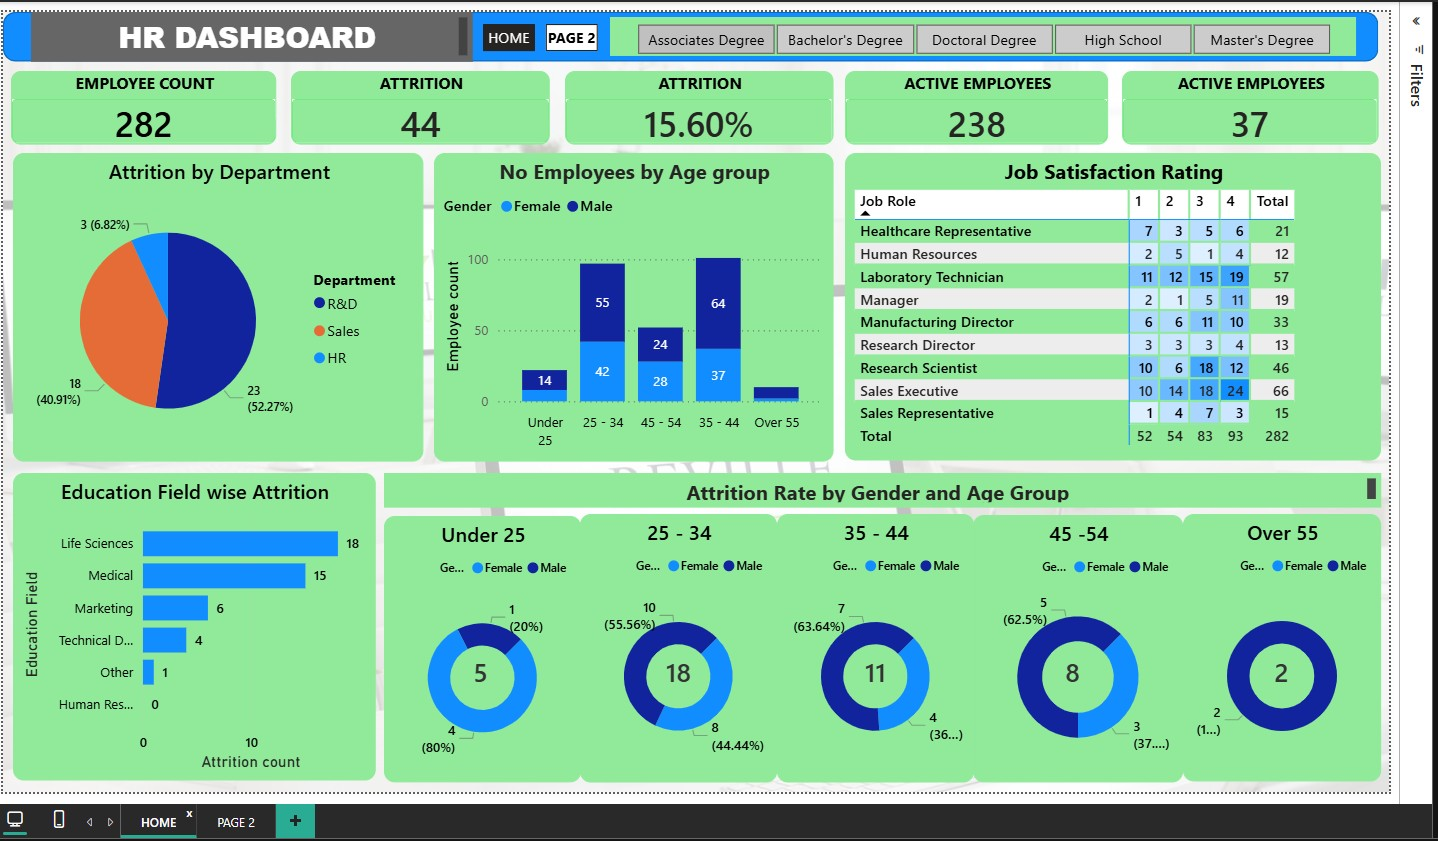

The page's visual inventory and layout, read from the dashboard file:
{"tool":"powerbi","page":{"name":"HOME","canvas":[1280,720],"ordinal":0},"visuals":[{"type":"cardVisual","title":"EMPLOYEE COUNT ","fields":{"Data":["HR data.Employee Count"]},"box":[7.1,54.3,245.4,68],"z":0},{"type":"cardVisual","title":"ATTRITION","fields":{"Data":["HR data.Attrition count"]},"box":[266.3,54.3,239,68],"z":1000},{"type":"cardVisual","title":"ATTRITION","fields":{"Data":["HR data.Attrition Rate"]},"box":[519.4,54.2,247.5,68],"z":2000},{"type":"cardVisual","title":"ACTIVE EMPLOYEES ","fields":{"Data":["HR data.Active Employees"]},"box":[777.6,54.2,243.3,68],"z":3000},{"type":"cardVisual","title":"ACTIVE EMPLOYEES ","fields":{"Data":["HR data.Age"]},"box":[1033.2,54.3,236.9,68],"z":4000},{"type":"pieChart","title":"Attrition by Department","fields":{"Category":["HR data.Department"],"Y":["HR data.Attrition count"]},"box":[9.6,130.4,379.2,284.7],"z":5000},{"type":"columnChart","title":"No Employees by Age group","fields":{"Category":["HR data.CF_age band"],"Y":["HR data.Employee Count"],"Series":["HR data.Gender"]},"box":[398.3,130.4,368.6,284.7],"z":6000},{"type":"pivotTable","title":"Job Satisfaction Rating ","fields":{"Rows":["HR data.Job Role"],"Columns":["HR data.Job Satisfaction"],"Values":["HR data.Employee Count"]},"box":[777.6,130.7,495,283.6],"z":7000},{"type":"barChart","title":"Education Field wise Attrition","fields":{"Category":["HR data.Education Field"],"Y":["HR data.Attrition count"]},"box":[9.6,425.7,334.6,283.6],"z":7001},{"type":"donutChart","title":"Under 25","fields":{"Category":["HR data.Gender"],"Y":["HR data.Attrition count"],"Series":["HR data.CF_age band"]},"box":[351.6,465.3,181.6,246.4],"z":7004},{"type":"textbox","box":[351.6,426,921,31.9],"z":7005},{"type":"donutChart","title":" 25 - 34","fields":{"Category":["HR data.Gender"],"Y":["HR data.Attrition count"],"Series":["HR data.CF_age band"]},"box":[533.2,463.9,181.6,247.5],"z":7006},{"type":"donutChart","title":"45 -54","fields":{"Category":["HR data.Gender"],"Y":["HR data.Attrition count"],"Series":["HR data.CF_age band"]},"box":[896.1,464.1,193.8,246.9],"z":7007},{"type":"donutChart","title":"35 - 44","fields":{"Category":["HR data.Gender"],"Y":["HR data.Attrition count"],"Series":["HR data.CF_age band"]},"box":[714.9,463.9,181.6,247.5],"z":7008},{"type":"donutChart","title":"Over 55","fields":{"Category":["HR data.Gender"],"Y":["HR data.Attrition count"],"Series":["HR data.CF_age band"]},"box":[1089.9,464,182.7,246.9],"z":7009},{"type":"cardVisual","fields":{"Data":["HR data.Attrition count"]},"box":[393.8,567.8,95,81.5],"z":7010},{"type":"cardVisual","fields":{"Data":["HR data.Attrition count"]},"box":[576.4,567.8,95,81.5],"z":7011},{"type":"cardVisual","fields":{"Data":["HR data.Attrition count"]},"box":[757.9,567.8,95,81.5],"z":7012},{"type":"cardVisual","fields":{"Data":["HR data.Attrition count"]},"box":[940.6,567.8,95,81.5],"z":7013},{"type":"cardVisual","fields":{"Data":["HR data.Attrition count"]},"box":[1133.1,567.8,95,81.5],"z":7014},{"type":"shape","box":[0,0,1270.1,45.7],"z":7016},{"type":"textbox","box":[25.5,0,407.9,45.7],"z":7017},{"type":"slicer","fields":{"Values":["HR data.Education"]},"box":[560.9,4.2,689.4,36.1],"z":7018},{"type":"pageNavigator","box":[443,10.6,107.3,25.5],"z":7019}]}

Visuals, with their boxes on the page's 1280x720 design canvas (x1, y1, x2, y2). These are canvas units, not pixel positions in the 1438x841 screenshot, which may show the page scaled, cropped or inside an application window:
"EMPLOYEE COUNT " cardVisual: bbox=(7, 54, 252, 122)
"ATTRITION" cardVisual: bbox=(266, 54, 505, 122)
"ATTRITION" cardVisual: bbox=(519, 54, 767, 122)
"ACTIVE EMPLOYEES " cardVisual: bbox=(778, 54, 1021, 122)
"ACTIVE EMPLOYEES " cardVisual: bbox=(1033, 54, 1270, 122)
"Attrition by Department" pieChart: bbox=(10, 130, 389, 415)
"No Employees by Age group" columnChart: bbox=(398, 130, 767, 415)
"Job Satisfaction Rating " pivotTable: bbox=(778, 131, 1273, 414)
"Education Field wise Attrition" barChart: bbox=(10, 426, 344, 709)
"Under 25" donutChart: bbox=(352, 465, 533, 712)
textbox: bbox=(352, 426, 1273, 458)
" 25 - 34" donutChart: bbox=(533, 464, 715, 711)
"45 -54" donutChart: bbox=(896, 464, 1090, 711)
"35 - 44" donutChart: bbox=(715, 464, 896, 711)
"Over 55" donutChart: bbox=(1090, 464, 1273, 711)
cardVisual - HR data.Attrition count: bbox=(394, 568, 489, 649)
cardVisual - HR data.Attrition count: bbox=(576, 568, 671, 649)
cardVisual - HR data.Attrition count: bbox=(758, 568, 853, 649)
cardVisual - HR data.Attrition count: bbox=(941, 568, 1036, 649)
cardVisual - HR data.Attrition count: bbox=(1133, 568, 1228, 649)
shape: bbox=(0, 0, 1270, 46)
textbox: bbox=(26, 0, 433, 46)
slicer - HR data.Education: bbox=(561, 4, 1250, 40)
pageNavigator: bbox=(443, 11, 550, 36)
